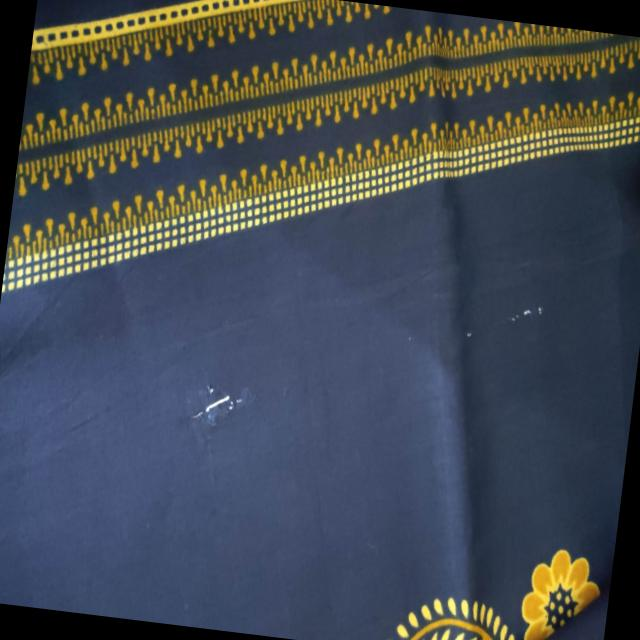selvet: (168, 368, 261, 433)
